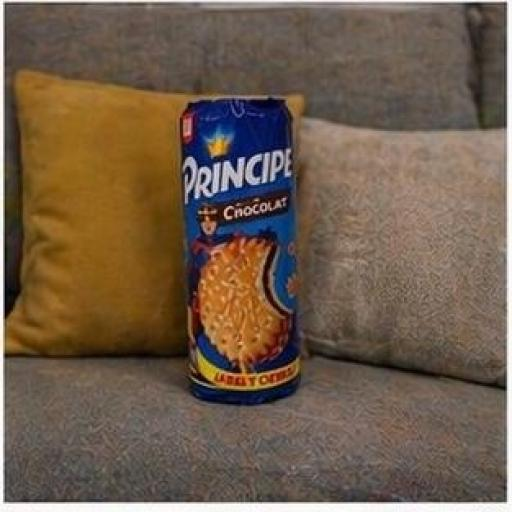prince: (110, 80, 369, 455)
